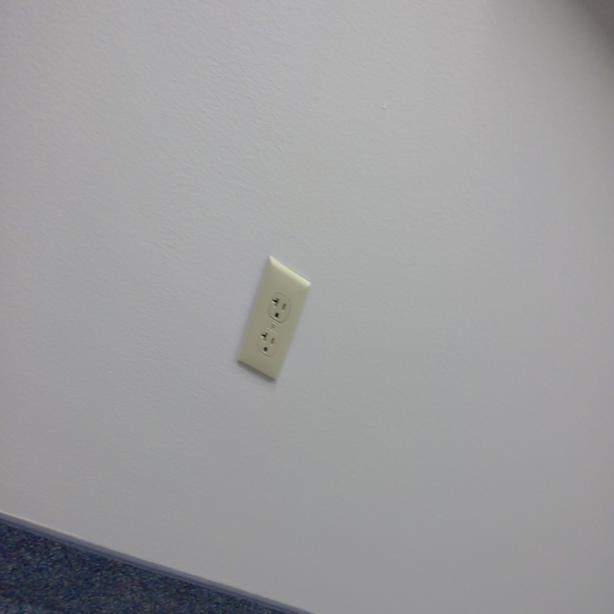typeb: (268, 290, 291, 326), (257, 324, 275, 358)
